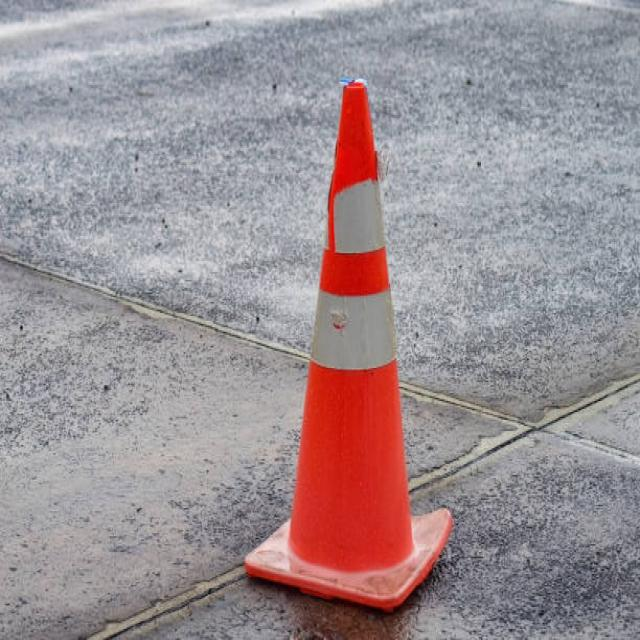Traffic Cone: (230, 54, 473, 631)
